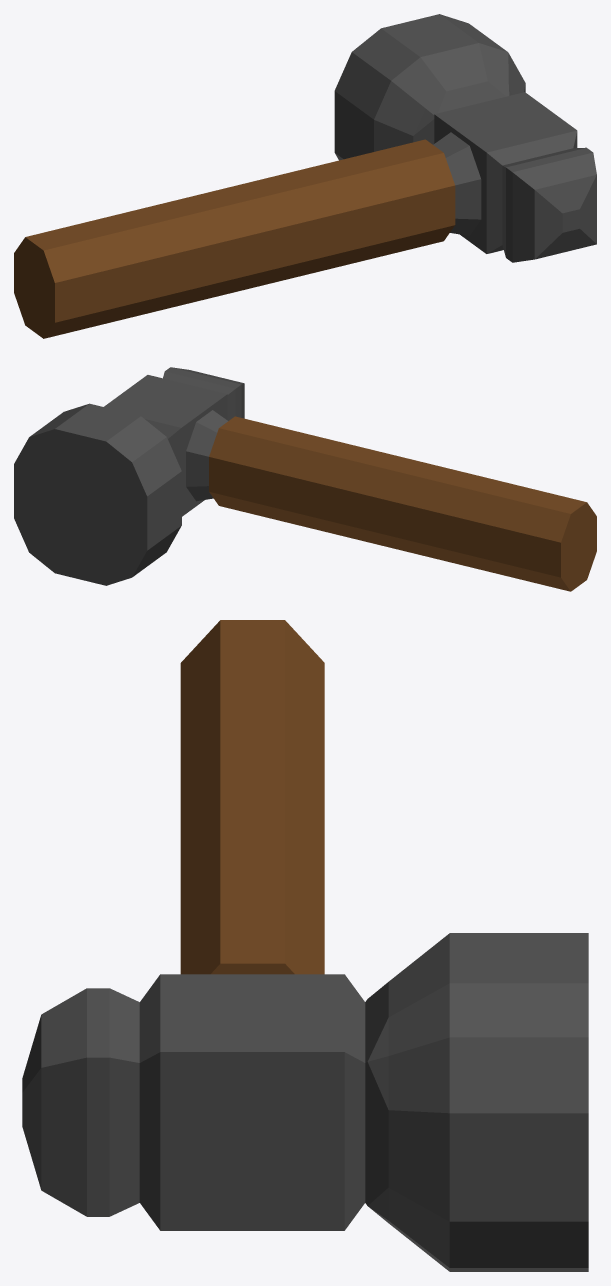
The picture shows the model from 3 angles, top to bottom: view 1: azimuth 30°, elevation 25°; view 2: azimuth 150°, elevation 25°; view 3: azimuth 270°, elevation 25°; orthographic projection. The views are drawn at different scales.
Parts seen in each view (by area): view 1: F-12; view 2: F-12; view 3: F-12.
Part boxes in pixels (<box>): F-12: <box>14,14,596,338</box>; F-12: <box>14,367,596,591</box>; F-12: <box>22,620,588,1271</box>.
Size of the model in its own units: 84.6 by 24.25 by 43.1.
